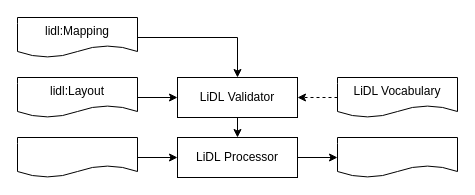
Image size: 475x195. Some labels were removed from this diagram. The centre of each missing label's shape, as x and y in pixels:
"Input Data" goes at (77,157).
"RDF graph" goes at (397,157).
